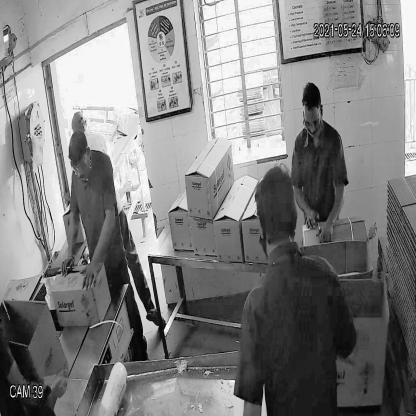goggles: (302, 113, 322, 133)
